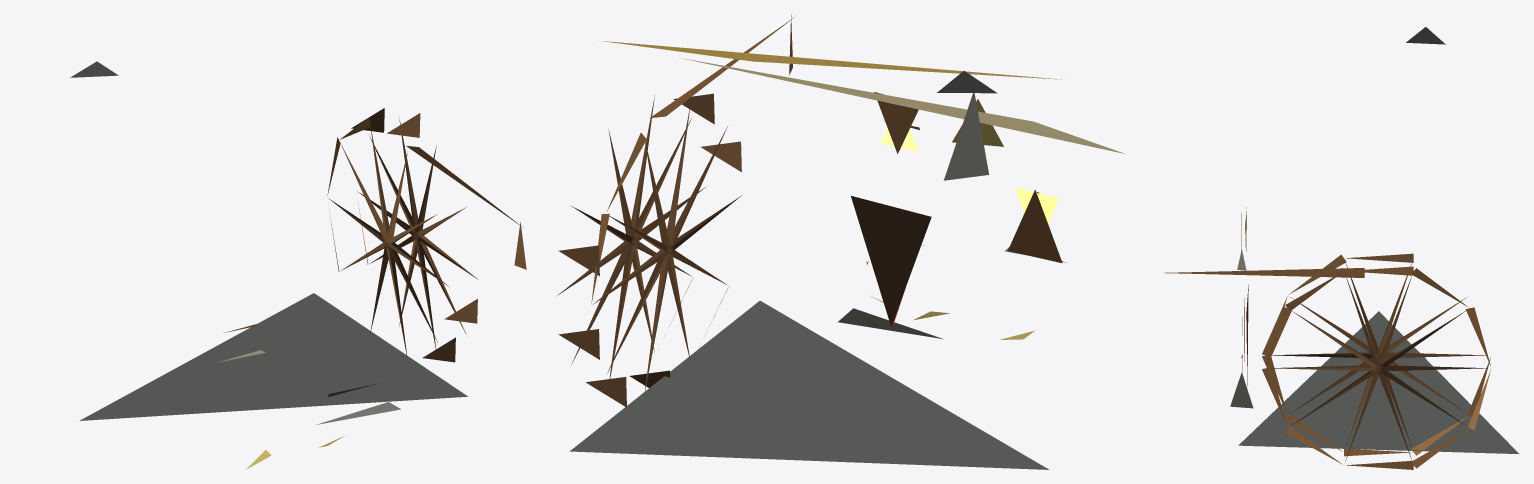
File: mill_water_lod2.glb
The picture shows the model from 3 angles, left to right: view 1: azimuth 30°, elevation 25°; view 2: azimuth 150°, elevation 25°; view 3: azimuth 270°, elevation 25°; orthographic projection. The views are drawn at different scales.
Parts seen in each view (by area): view 1: mill_water_lod2; view 2: mill_water_lod2; view 3: mill_water_lod2.
Boxes of the visible parts, x1,y1,x2,y2 form: mill_water_lod2: (70, 61, 526, 469); mill_water_lod2: (557, 14, 1124, 469); mill_water_lod2: (1165, 27, 1519, 469).
Bounding box in the file's own units: 8.2 × 7.46 × 7.7.
